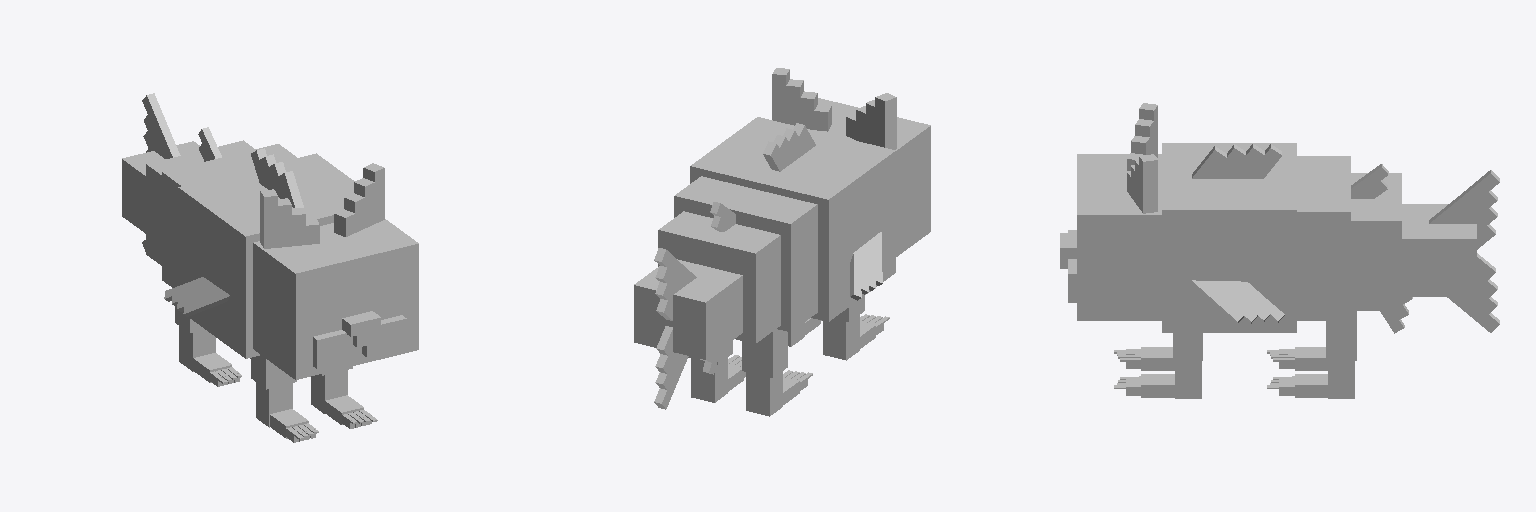
Rendered from Trulimero Trulicina.obj.
The picture shows the model from 3 angles: view 1: azimuth 30°, elevation 25°; view 2: azimuth 150°, elevation 25°; view 3: azimuth 270°, elevation 25°; orthographic projection.
Parts seen in each view (by area): view 1: Cube0011, Cube0051, Cube0031, Cube0041, Cube0121; view 2: Cube0051, Cube0011, Cube0031, Cube0041, Cube0121; view 3: Cube0051, Cube0011, Cube0041, Cube0121, Cube0031.
Boxes of the visible parts, box(x1,y1,x2,y2) form: Cube0011: box(253, 163, 418, 379); Cube0051: box(122, 140, 354, 318); Cube0031: box(175, 306, 371, 442); Cube0041: box(142, 93, 303, 316); Cube0121: box(122, 192, 259, 358); Cube0051: box(634, 117, 895, 335); Cube0011: box(772, 68, 930, 256); Cube0031: box(688, 296, 883, 416); Cube0041: box(654, 123, 882, 409); Cube0121: box(634, 233, 895, 359); Cube0051: box(1162, 143, 1476, 292); Cube0011: box(1060, 103, 1161, 320); Cube0041: box(1192, 144, 1499, 333); Cube0121: box(1162, 273, 1476, 332); Cube0031: box(1126, 311, 1356, 398).
Bounding box in the file's own units: 4.09 × 5.15 × 8.32.